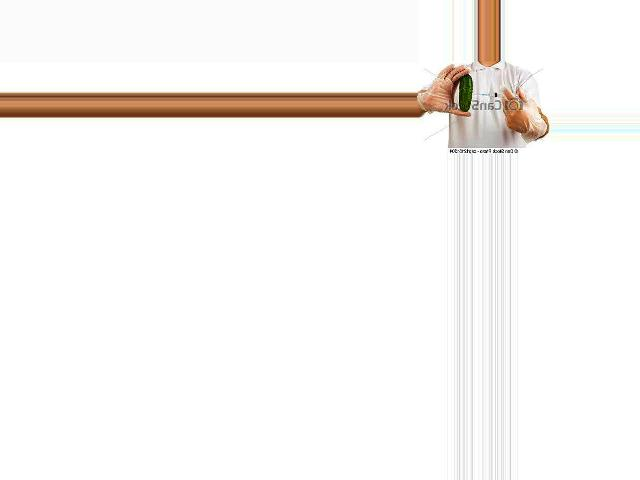cucumber: (458, 73, 471, 112)
